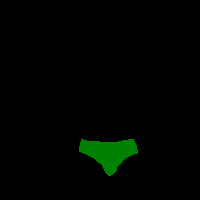mutande: (79, 138, 138, 176)
